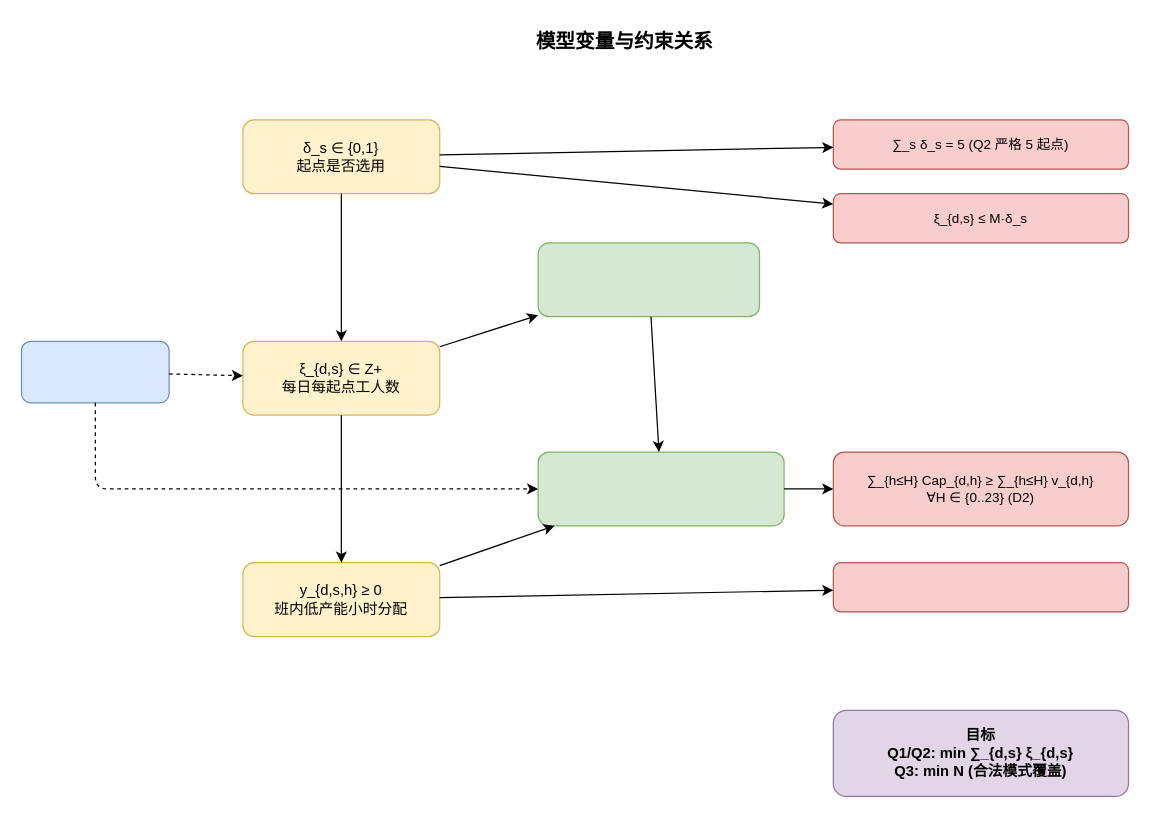
Some shapes in this 1150 by 818 pixel diagram are drawn without their labels. The centre of each missing label's shape, as x and y in pixels:
"Cap_{d,h} = 25·W_{d,h} − 15·∑_s y_{d,s,h}" belongs at point 660,488.
"W_{d,h} = ∑_s A_{s,h} ξ_{d,s} 小时在岗" belongs at point 648,279.
"∑_{h∈Shift(s)} y_{d,s,h} = ξ_{d,s}" belongs at point 980,586.
"输入 v_{d,h}" belongs at point 94,371.
